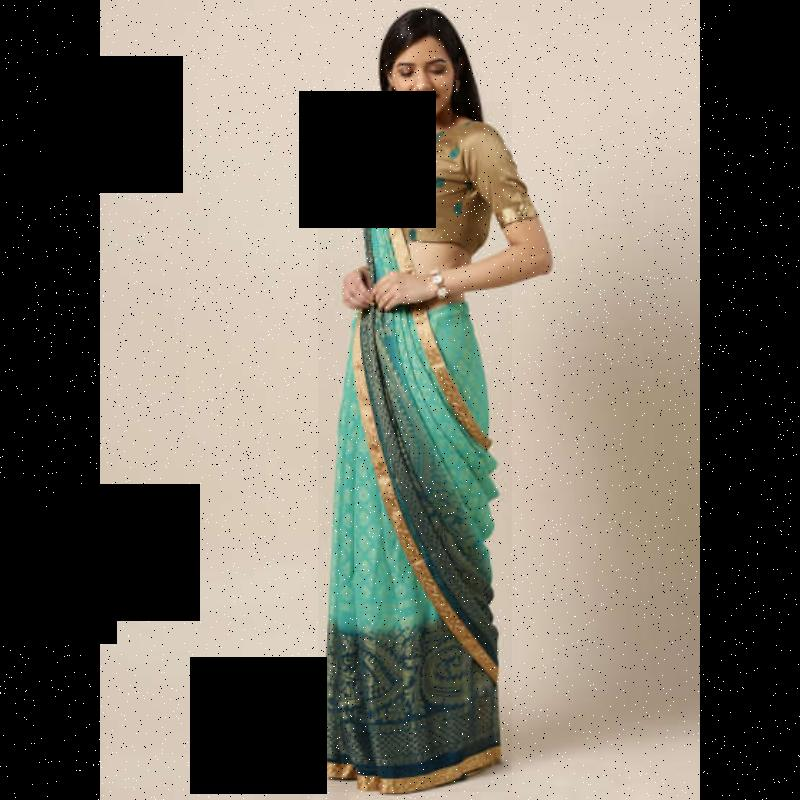Sari: (318, 102, 512, 792)
